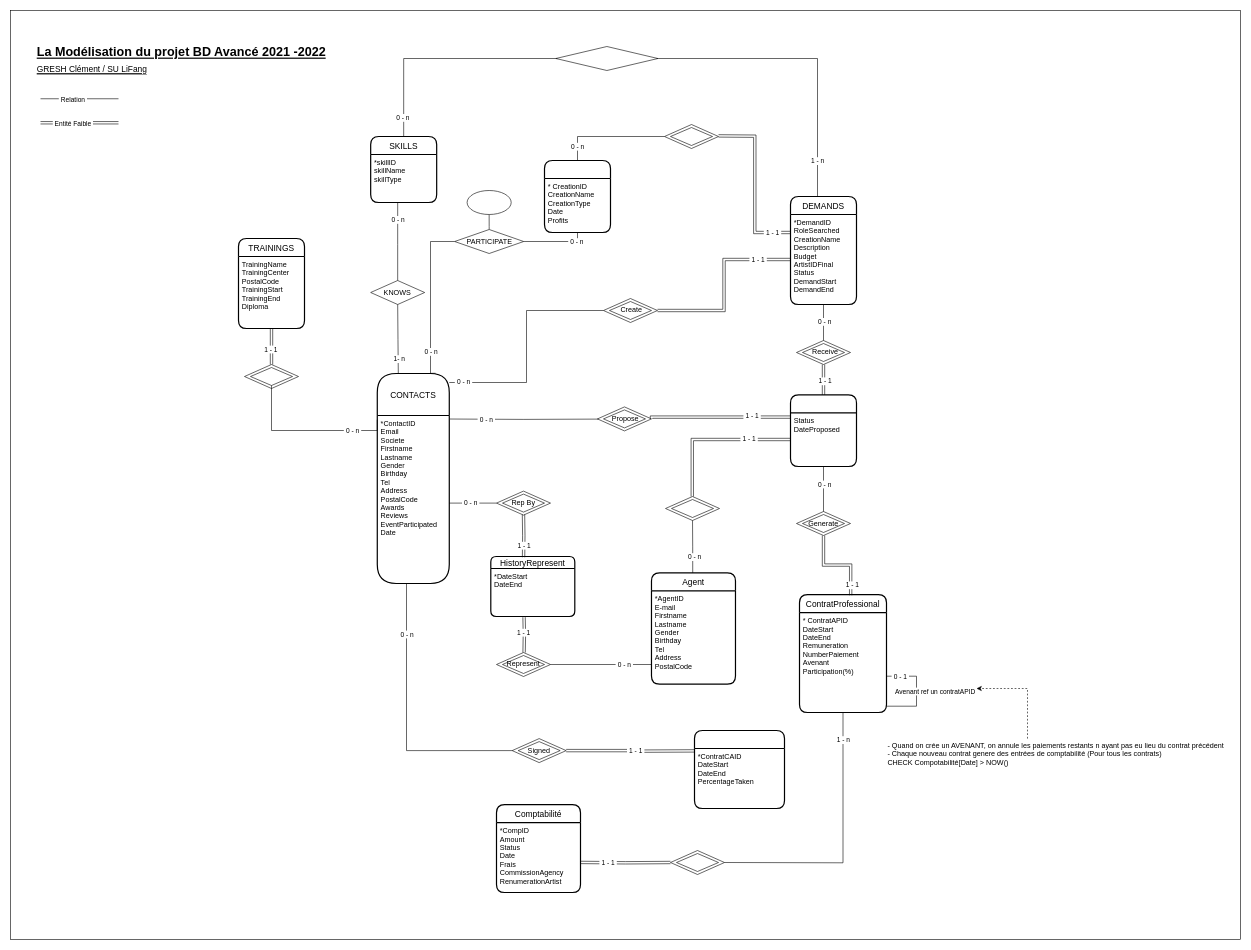
The diagram is 1251 pixels wide and 950 high, and some of its shapes have lost their labels. Here are the shapes that lost their labels. From the top down, the box of each, then its label:
(555, 46, 658, 70): MULTIPLE-SKILLS
(670, 127, 712, 146): part of
(466, 190, 511, 214): Role
(544, 160, 611, 233): CREATIONS
(790, 394, 857, 467): Proposition
(671, 499, 714, 518): Submit
(694, 730, 785, 809): ContratContactAgency
(676, 853, 718, 872): paid
